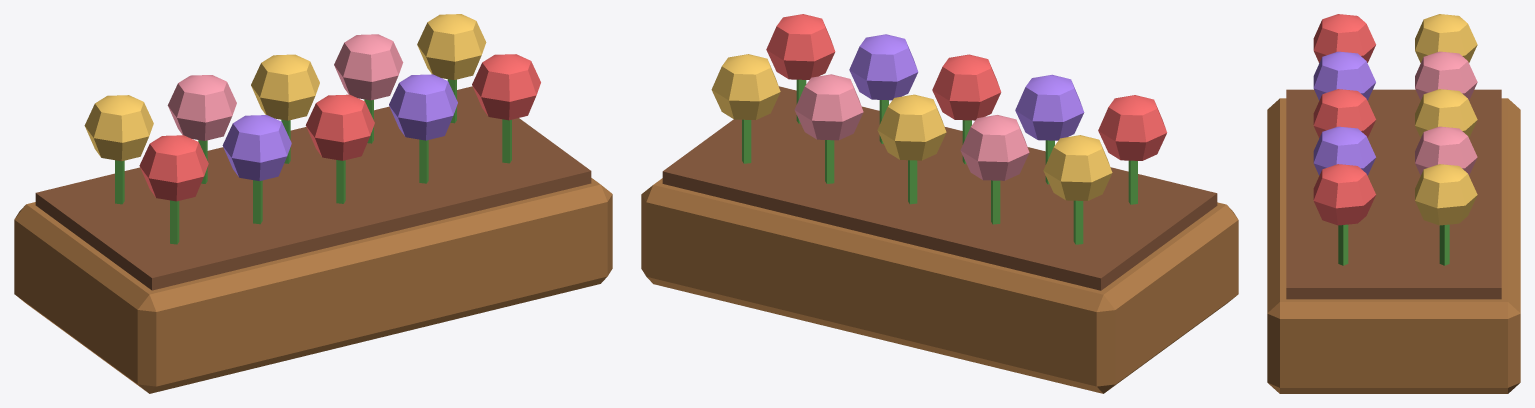
File: plant_flowers.glb
The picture shows the model from 3 angles, left to right: view 1: azimuth 30°, elevation 25°; view 2: azimuth 150°, elevation 25°; view 3: azimuth 270°, elevation 25°; orthographic projection. The views are drawn at different scales.
Visible parts, largest first — view 1: plant_flowers; view 2: plant_flowers; view 3: plant_flowers.
Boxes of the visible parts, bbox=[...] form: plant_flowers: bbox=[14, 14, 612, 393]; plant_flowers: bbox=[641, 14, 1238, 393]; plant_flowers: bbox=[1267, 14, 1520, 393].
Size of the model in its own units: 2 by 0.88 by 1.
